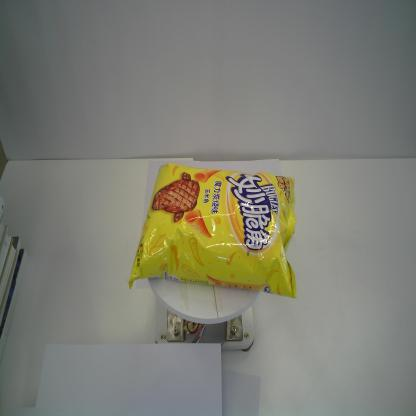Puffed Food: (127, 161, 299, 301)
